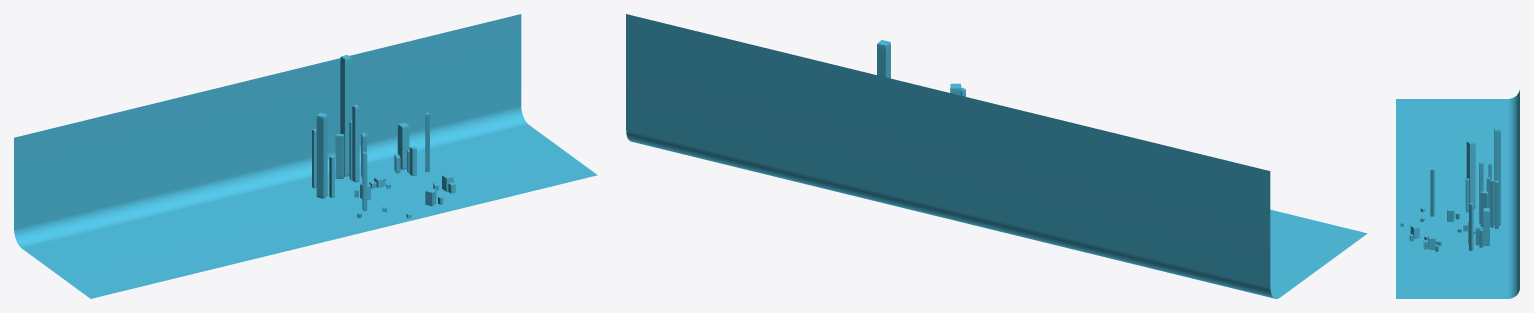
Rendered from scena 01.fbx.
The picture shows the model from 3 angles, left to right: view 1: azimuth 30°, elevation 25°; view 2: azimuth 150°, elevation 25°; view 3: azimuth 270°, elevation 25°; orthographic projection. The views are drawn at different scales.
Visible parts, largest first — view 1: Plane.002, Cube.014, Cube.024, Cube.013, Cube.009, Cube.016; view 2: Plane.002, Cube.014; view 3: Plane.002, Cube.024, Cube.014, Cube.009, Cube.030, Cube.015, Cube.031, Cube.013, Cube.019, Cube.018, Cube.025, Cube.017 (+3 smaller).
Boxes of the visible parts, x1,y1,x2,y2 form: Plane.002: (14, 14, 597, 298); Cube.014: (340, 55, 351, 176); Cube.024: (316, 112, 327, 198); Cube.013: (352, 104, 359, 182); Cube.009: (397, 122, 409, 169); Cube.016: (335, 134, 344, 178); Plane.002: (626, 14, 1367, 298); Cube.014: (877, 40, 890, 78); Plane.002: (1396, 89, 1519, 298); Cube.024: (1466, 140, 1475, 208); Cube.014: (1494, 127, 1500, 225); Cube.009: (1483, 208, 1489, 245); Cube.030: (1430, 168, 1434, 216); Cube.015: (1490, 179, 1494, 227); Cube.031: (1469, 203, 1473, 250); Cube.013: (1479, 161, 1483, 223); Cube.019: (1480, 191, 1488, 227); Cube.018: (1495, 181, 1498, 228); Cube.025: (1465, 178, 1469, 212); Cube.017: (1486, 177, 1490, 224).
Bounding box in the file's own units: 8245 × 1849 × 2160.
